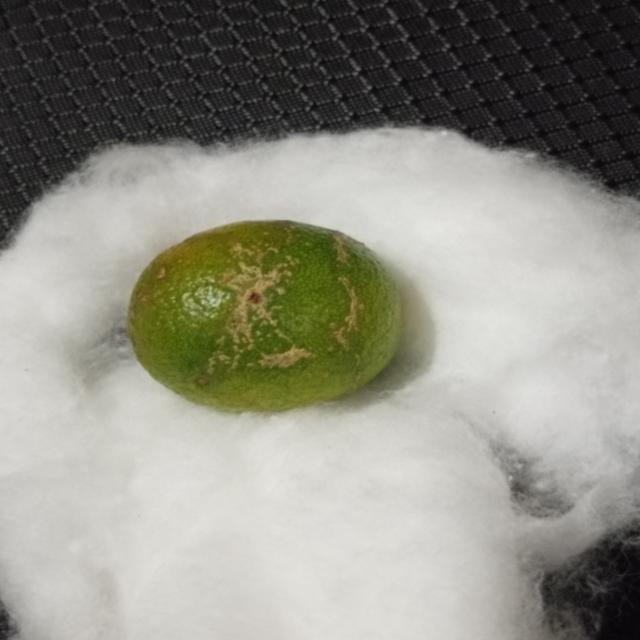thrips: (125, 215, 413, 417)
